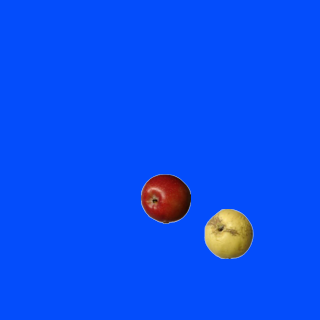Apple Braeburn: (140, 173, 190, 223)
Apple Golden 1: (203, 208, 253, 258)
